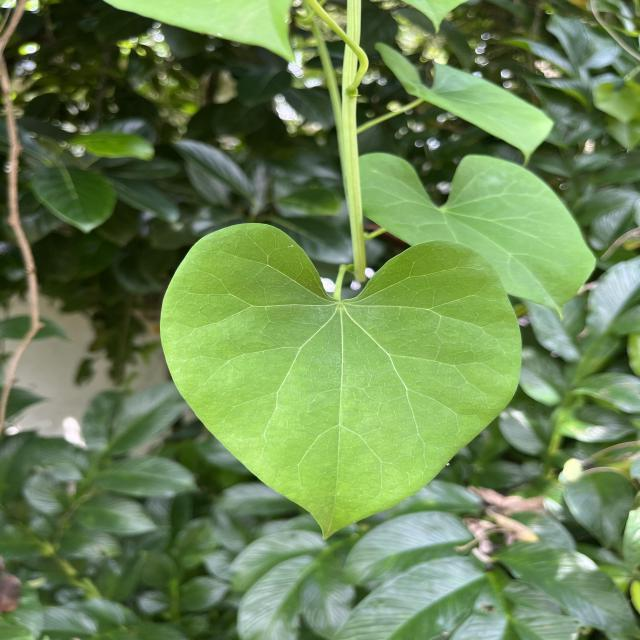Tinospora cordifolia: (154, 218, 526, 544)
